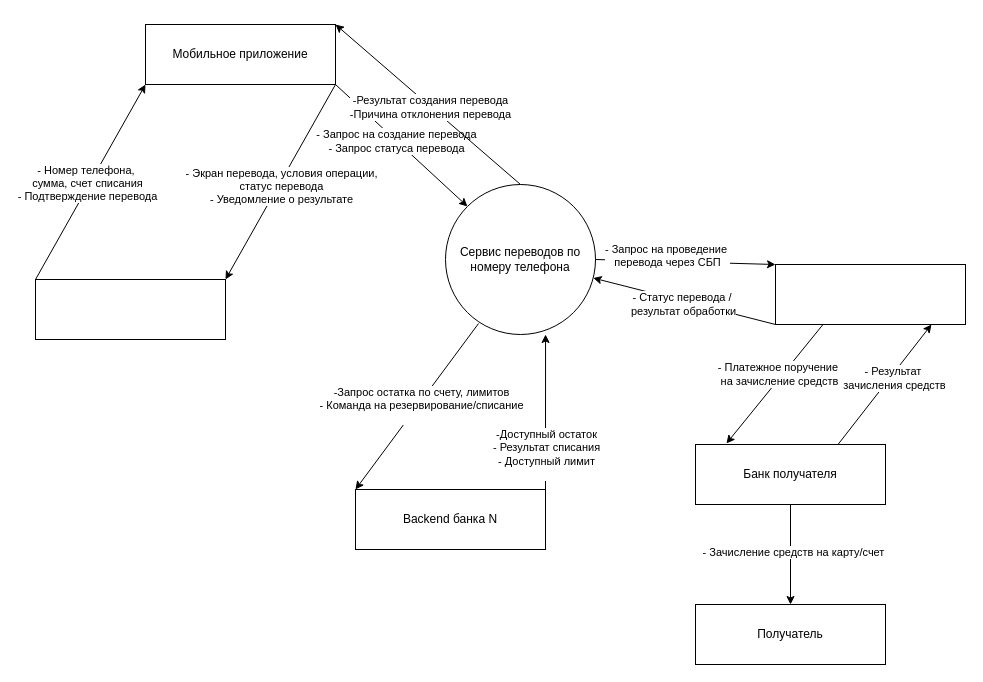
This 983x682 diagram has some shape labels left out. The box of each missing label's shape, as (x1, y1, x2, y2) in pixels:
Клиент банка N: (34, 278, 226, 340)
СБП: (774, 264, 966, 324)
